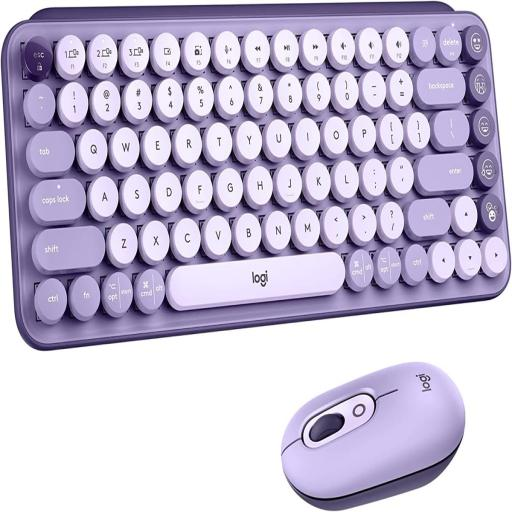keyboard: (2, 12, 507, 340)
